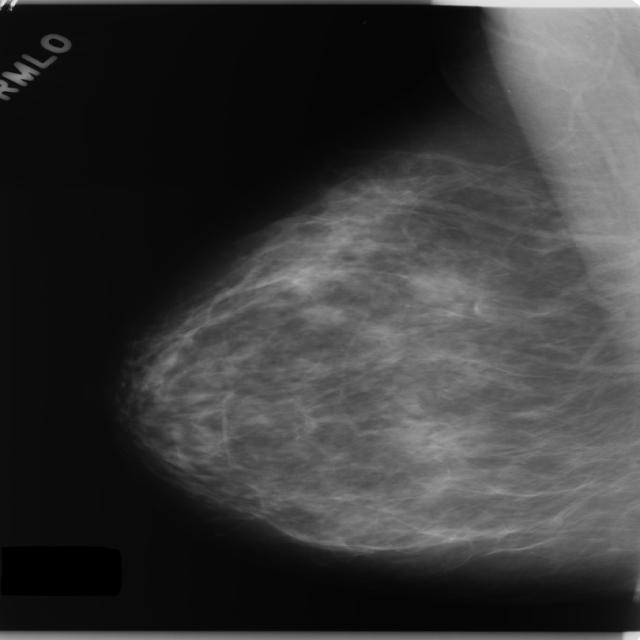tumour: (403, 266, 471, 306)
